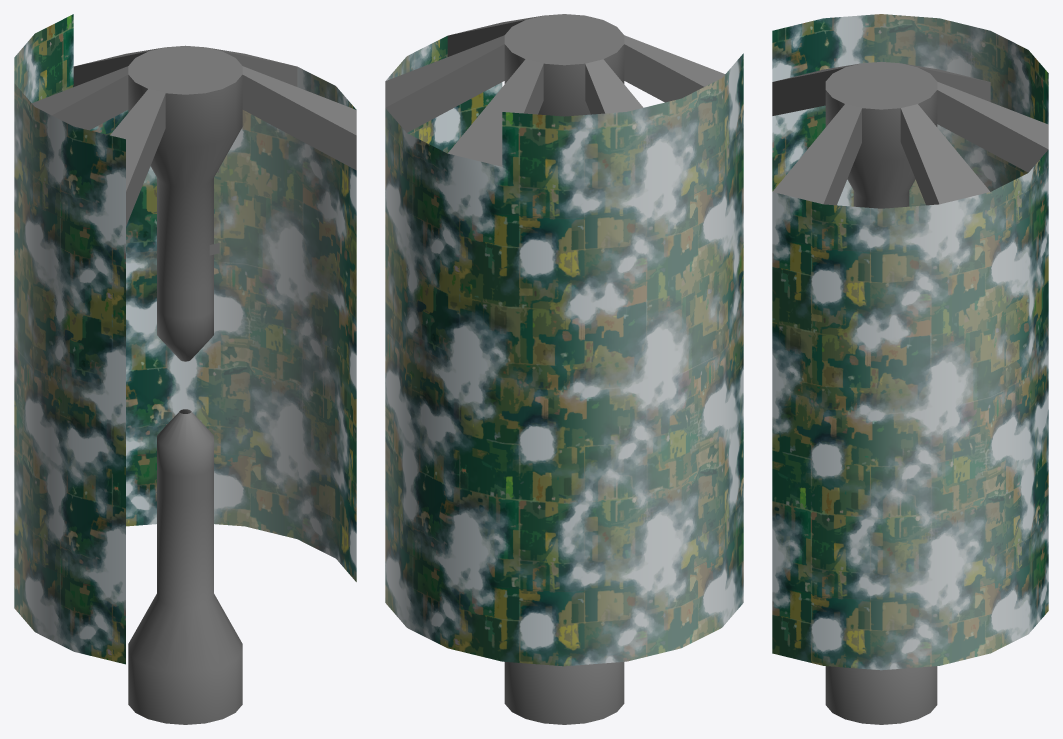
Rendered from SpaceShip_FarmSet_CutScene.fbx.
3 views of the same model, side by side, from view 1: azimuth 30°, elevation 25°; view 2: azimuth 150°, elevation 25°; view 3: azimuth 270°, elevation 25° (orthographic). The views are drawn at different scales.
Visible parts, largest first — view 1: Ship_Body_Inside_FarmBG, ship_Body_Main_inside; view 2: Ship_Body_Inside_FarmBG, ship_Body_Main_inside; view 3: Ship_Body_Inside_FarmBG, ship_Body_Main_inside.
Boxes of the visible parts, x1,y1,x2,y2 form: Ship_Body_Inside_FarmBG: (14,14,356,664); ship_Body_Main_inside: (32,45,356,724); Ship_Body_Inside_FarmBG: (385,36,743,666); ship_Body_Main_inside: (385,14,725,724); Ship_Body_Inside_FarmBG: (772,14,1048,670); ship_Body_Main_inside: (772,62,1048,724).
Bounding box in the file's own units: 59.06 × 118 × 48.06.
Materials: 2 (1 with a texture image).
